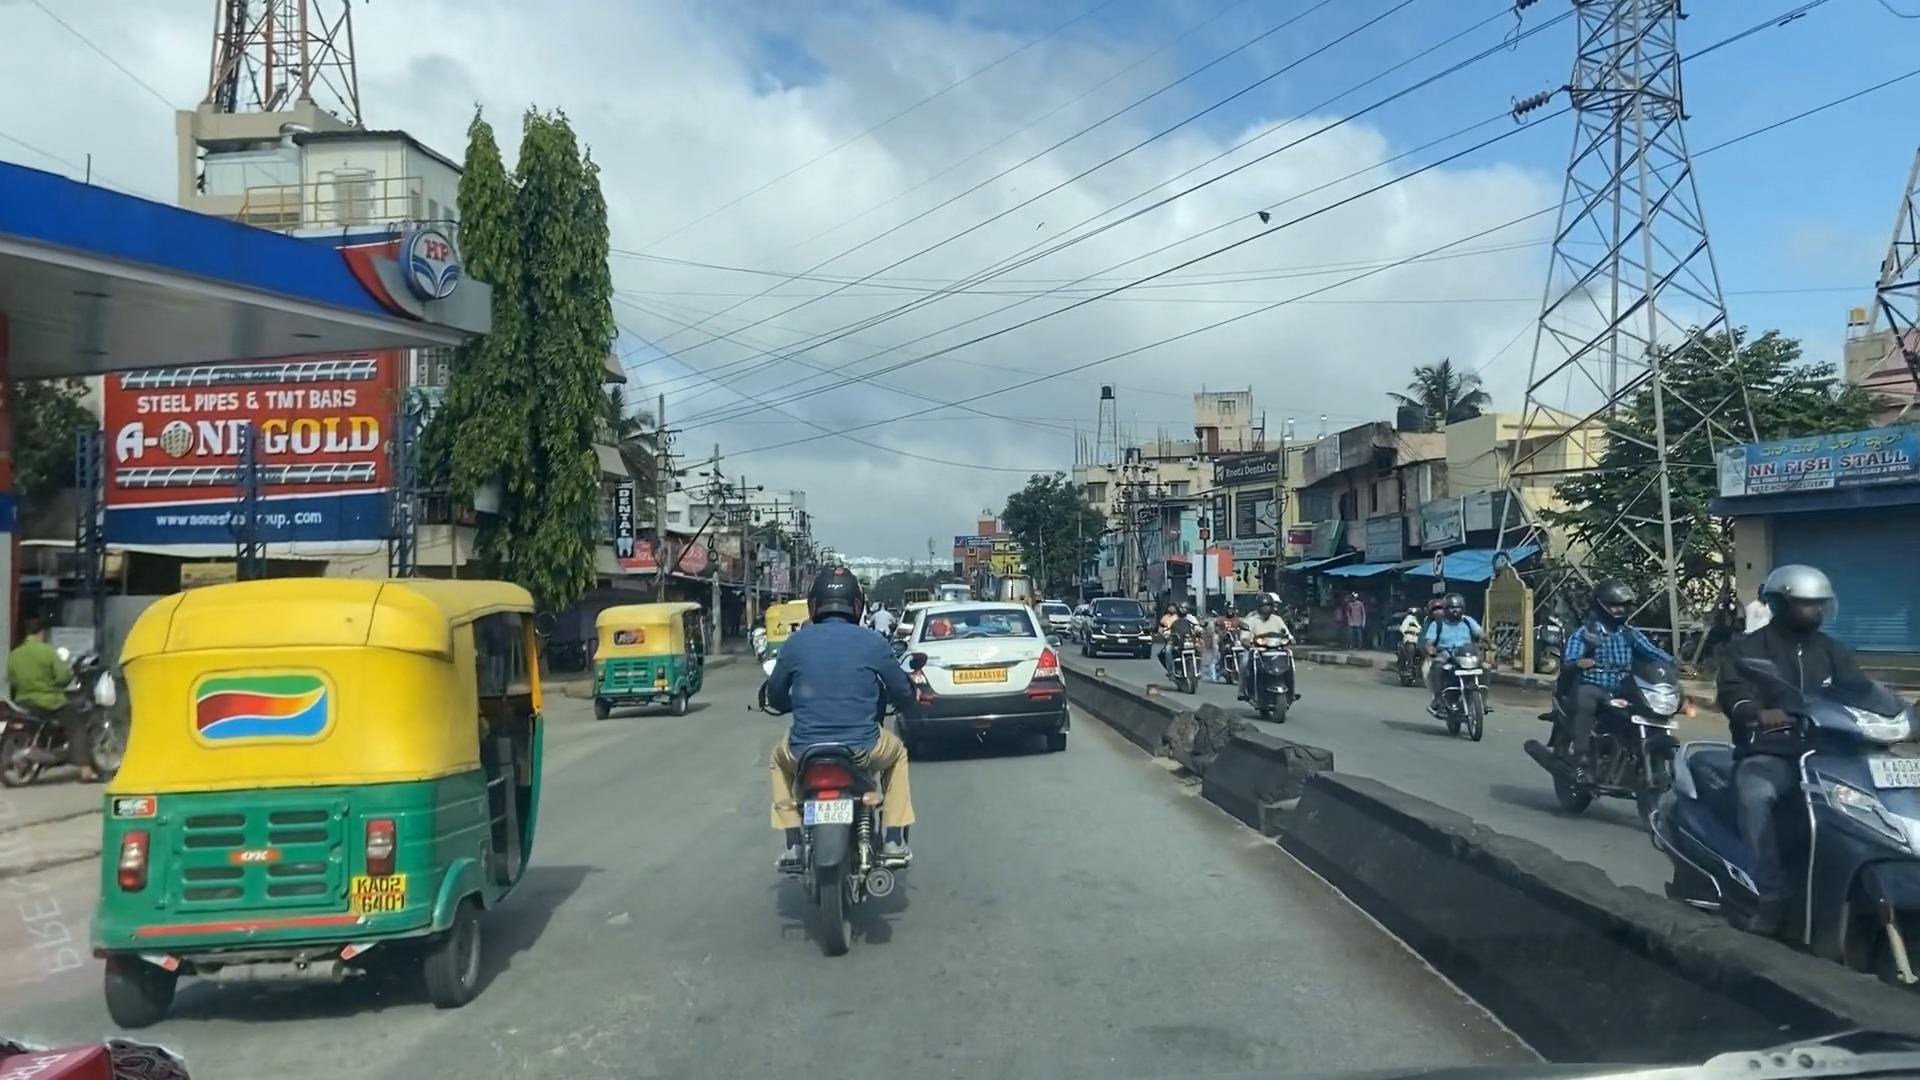LMV: (121, 591, 545, 1023), (787, 575, 898, 955), (909, 603, 1069, 757)
